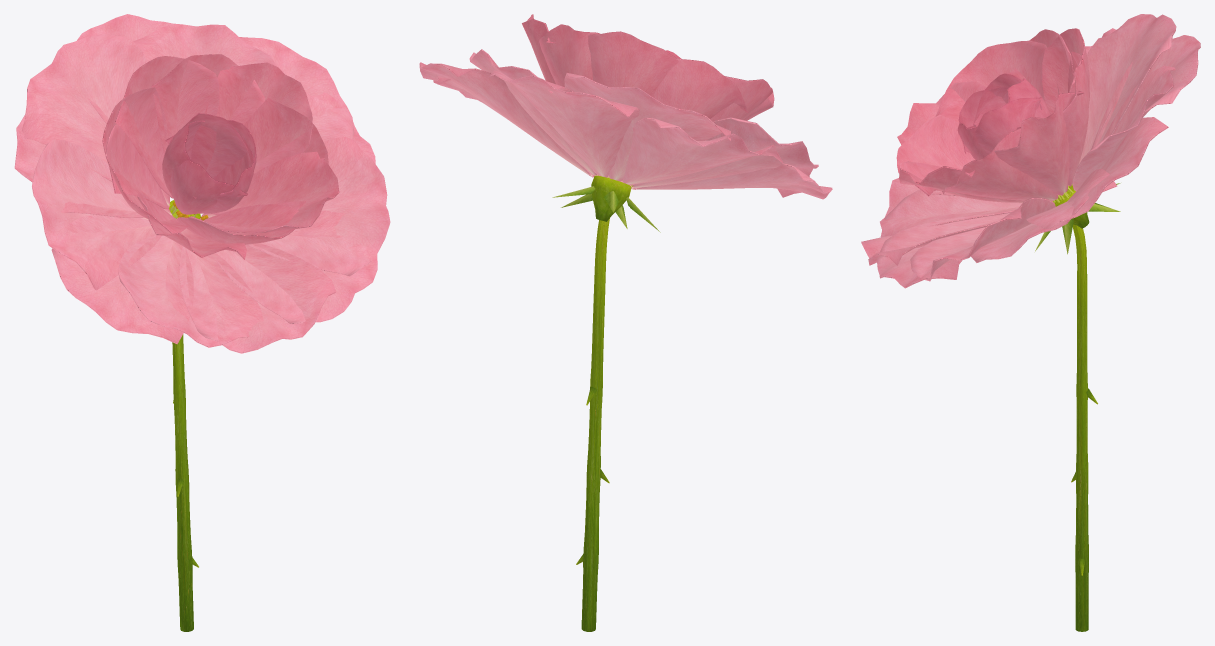
The model's file is rose_26.glb.
3 renders of one model, left to right at view 1: azimuth 30°, elevation 25°; view 2: azimuth 150°, elevation 25°; view 3: azimuth 270°, elevation 25°, orthographic. The views are drawn at different scales.
Visible parts, largest first — view 1: Petal_1_outer_03, Petal_3_outer_04, Petal_8_outer_02, Petal_5_outer_04, Petal_6_outer_02, Petal_4_outer_01, Petal_14_middle_03, Petal_7_outer_03, Petal_18_middle_01, Petal_16_middle_03, Stem_Skinned, Petal_11_outer_04 (+15 smaller); view 2: Petal_0_outer_01, Stem_Skinned, Petal_2_outer_02, Petal_18_middle_01, Petal_1_outer_03, Petal_3_outer_04, Petal_19_middle_04, Petal_10_outer_01, Petal_4_outer_01, Petal_17_middle_02, Hypanthium_and_five_sepals, Petal_11_outer_04 (+2 smaller); view 3: Petal_1_outer_03, Stem_Skinned, Petal_16_middle_03, Petal_20_middle_01, Petal_8_outer_02, Petal_15_middle_02, Petal_7_outer_03, Petal_6_outer_02, Petal_11_outer_04, Petal_10_outer_01, Petal_13_middle_04, Petal_0_outer_01 (+13 smaller).
Boxes of the visible parts, bbox=[...] form: Petal_1_outer_03: bbox=[21, 33, 147, 181]; Petal_3_outer_04: bbox=[32, 139, 161, 290]; Petal_8_outer_02: bbox=[246, 136, 390, 276]; Petal_5_outer_04: bbox=[118, 235, 263, 347]; Petal_6_outer_02: bbox=[179, 243, 335, 353]; Petal_4_outer_01: bbox=[51, 214, 193, 344]; Petal_14_middle_03: bbox=[200, 151, 339, 233]; Petal_7_outer_03: bbox=[215, 210, 377, 324]; Petal_18_middle_01: bbox=[114, 56, 219, 198]; Petal_16_middle_03: bbox=[205, 62, 312, 173]; Stem_Skinned: bbox=[172, 216, 198, 631]; Petal_11_outer_04: bbox=[133, 23, 278, 67]; Petal_0_outer_01: bbox=[488, 70, 639, 177]; Stem_Skinned: bbox=[576, 218, 609, 631]; Petal_2_outer_02: bbox=[623, 117, 782, 185]; Petal_18_middle_01: bbox=[588, 31, 678, 96]; Petal_1_outer_03: bbox=[564, 73, 730, 181]; Petal_3_outer_04: bbox=[632, 117, 818, 188]; Petal_19_middle_04: bbox=[653, 58, 748, 118]; Petal_10_outer_01: bbox=[419, 62, 589, 174]; Petal_4_outer_01: bbox=[635, 163, 832, 199]; Petal_17_middle_02: bbox=[539, 24, 600, 87]; Hypanthium_and_five_sepals: bbox=[552, 175, 660, 232]; Petal_11_outer_04: bbox=[469, 49, 596, 175]; Petal_1_outer_03: bbox=[1079, 14, 1176, 163]; Stem_Skinned: bbox=[1059, 194, 1097, 631]; Petal_16_middle_03: bbox=[994, 90, 1083, 195]; Petal_20_middle_01: bbox=[935, 40, 1059, 122]; Petal_8_outer_02: bbox=[910, 197, 1055, 281]; Petal_15_middle_02: bbox=[942, 128, 1058, 201]; Petal_7_outer_03: bbox=[876, 212, 1010, 288]; Petal_6_outer_02: bbox=[861, 189, 1022, 265]; Petal_11_outer_04: bbox=[1072, 65, 1175, 191]; Petal_10_outer_01: bbox=[1026, 117, 1168, 228]; Petal_13_middle_04: bbox=[896, 114, 975, 196]; Petal_0_outer_01: bbox=[1091, 35, 1200, 149].
Size of the model in its own units: 0.198 by 0.3269 by 0.1732.
Materials: 7 (7 with a texture image).
